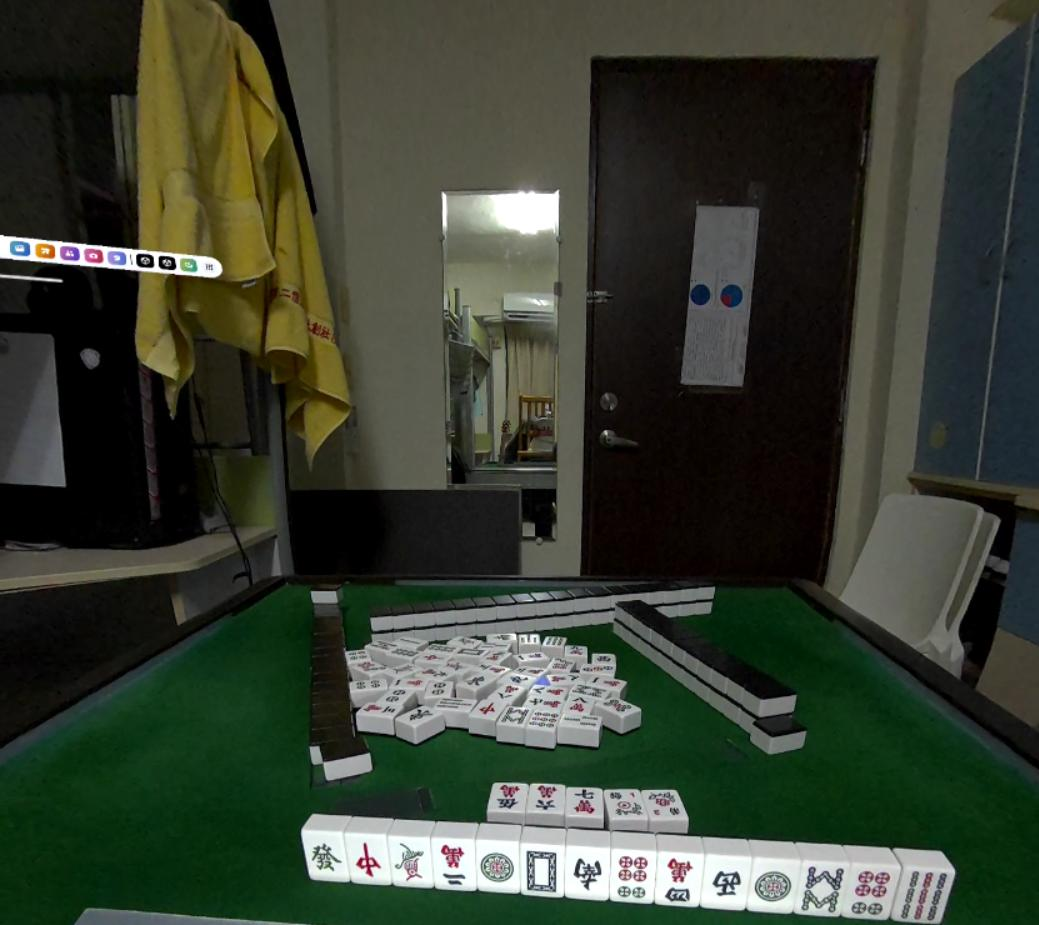mahjong: (651, 840, 701, 907), (901, 864, 951, 925), (387, 832, 438, 891), (800, 855, 846, 920), (343, 833, 399, 886), (474, 837, 523, 893), (751, 855, 799, 910), (847, 866, 895, 921), (567, 842, 610, 902), (520, 837, 563, 896), (434, 837, 477, 891), (299, 829, 343, 877), (614, 856, 657, 904), (711, 860, 749, 911)
